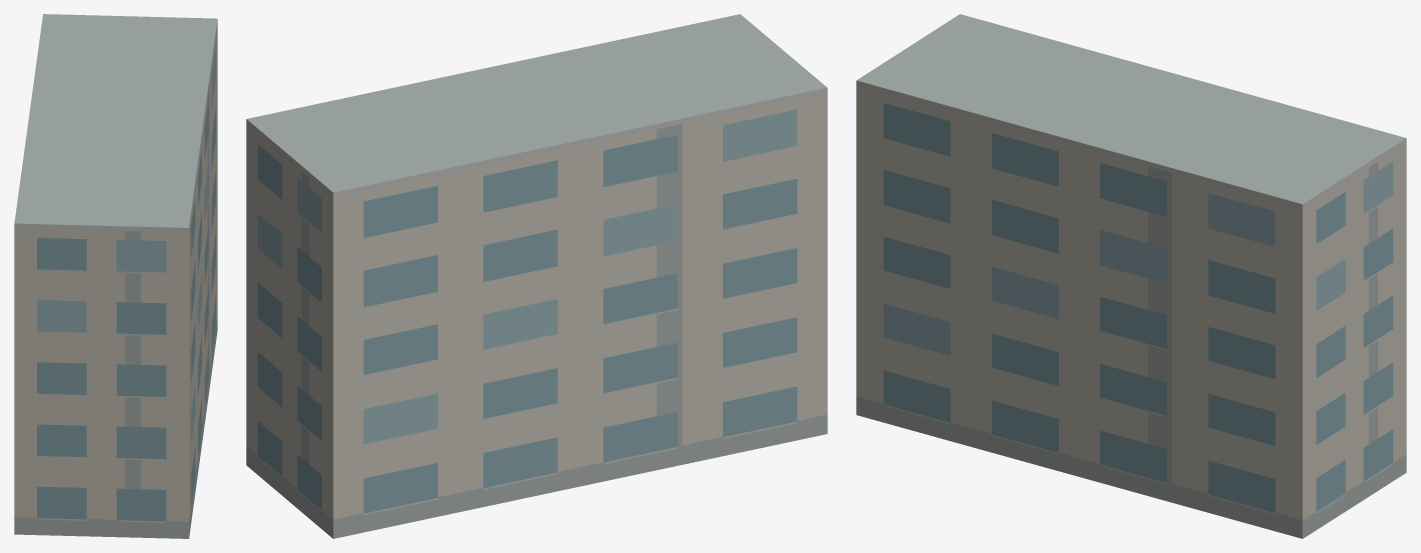
The model's file is survey-upis-32880817.glb.
The picture shows the model from 3 angles, left to right: view 1: azimuth 30°, elevation 25°; view 2: azimuth 150°, elevation 25°; view 3: azimuth 270°, elevation 25°; orthographic projection. The views are drawn at different scales.
Parts seen in each view (by area): view 1: survey-upis-32880817.tmp; view 2: survey-upis-32880817.tmp; view 3: survey-upis-32880817.tmp.
Part boxes in pixels (<box>): survey-upis-32880817.tmp: <box>14,14,217,538</box>; survey-upis-32880817.tmp: <box>246,14,827,538</box>; survey-upis-32880817.tmp: <box>856,14,1406,538</box>.
Size of the model in its own units: 19.41 by 15.9 by 23.7.
